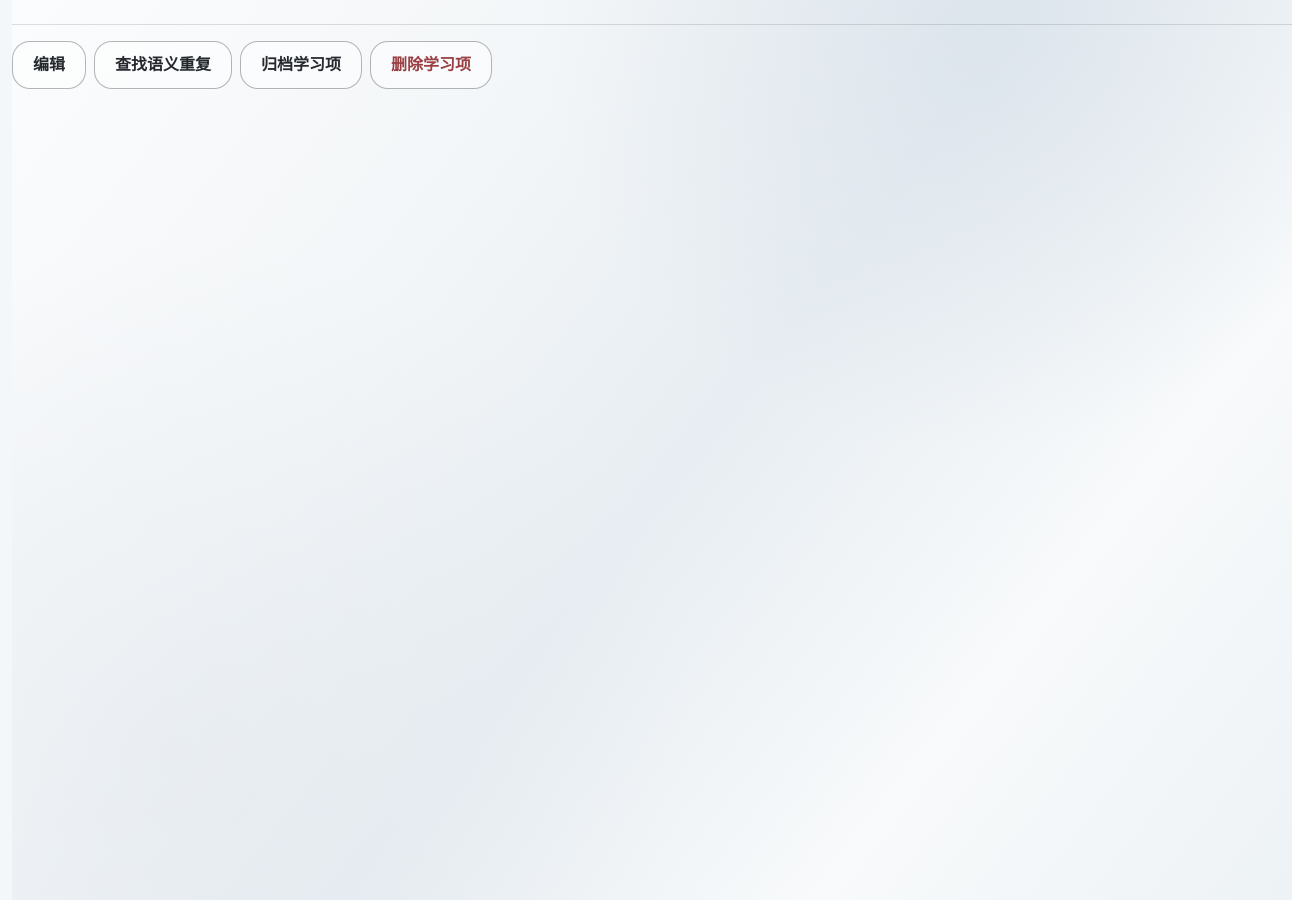
Test case: learning item maintenance panel › keeps the detail for the stable suggestion error quota_exhausted
The image size is (1292, 900).
What coordinates should you click on to do the following:
click the button "查找语义重复"
I would click on:
 (163, 65)
Its box is top-left (94, 41), bottom-right (232, 89).
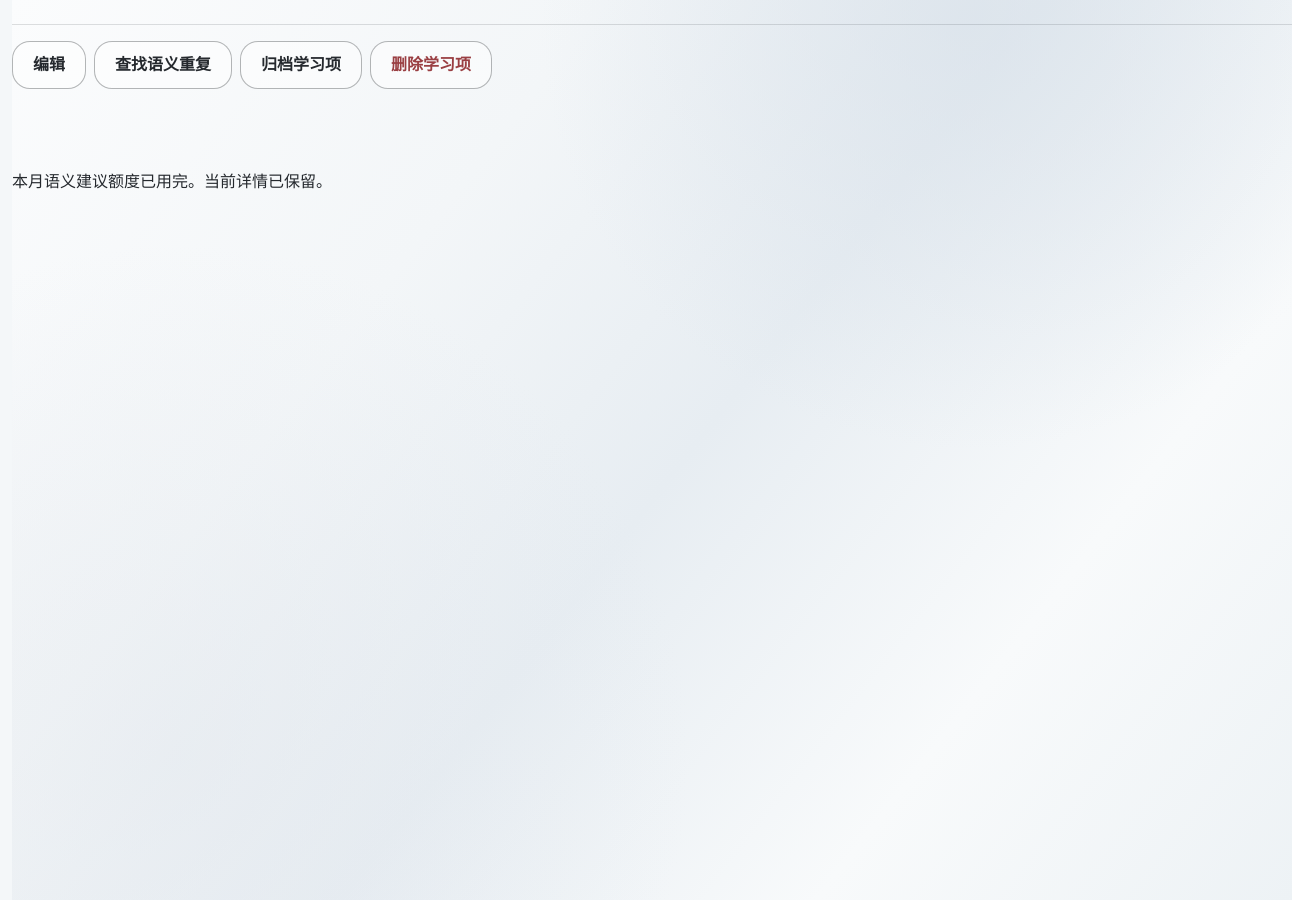
Expected: the message "本月语义建议额度已用完。当前详情已保留。" is shown, top-left (12, 171), bottom-right (332, 191)
